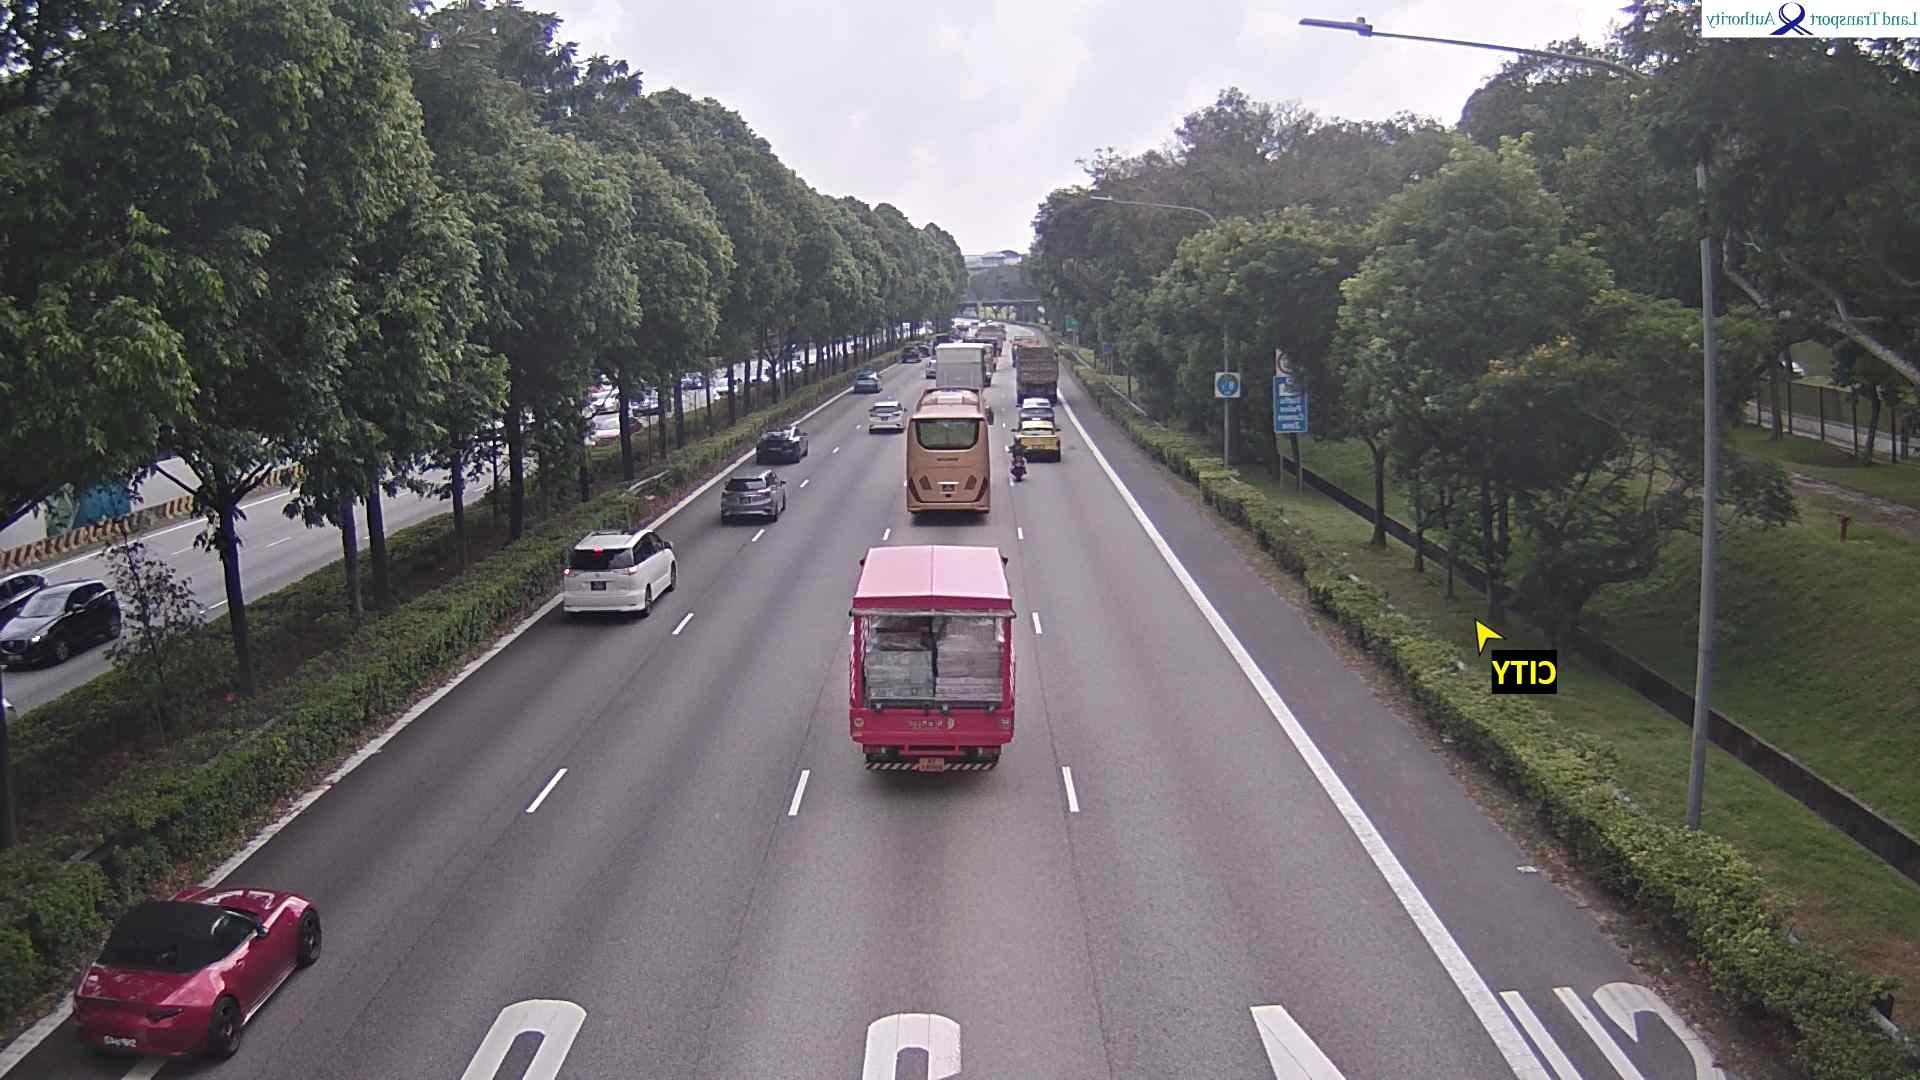bus: (905, 386, 996, 516)
cars: (73, 885, 323, 1062), (3, 578, 124, 669), (562, 526, 678, 618), (720, 467, 789, 524), (1, 568, 47, 622), (1013, 418, 1064, 462), (756, 425, 810, 463), (587, 411, 644, 444), (868, 398, 907, 433), (1018, 396, 1056, 430), (632, 386, 663, 415), (591, 388, 621, 414), (856, 368, 884, 393), (682, 371, 707, 390), (902, 345, 924, 363), (924, 355, 938, 377)
motorcycle: (1009, 446, 1029, 483)
trucks: (848, 542, 1018, 774), (930, 345, 988, 402), (1015, 345, 1062, 407), (960, 326, 1010, 369)
